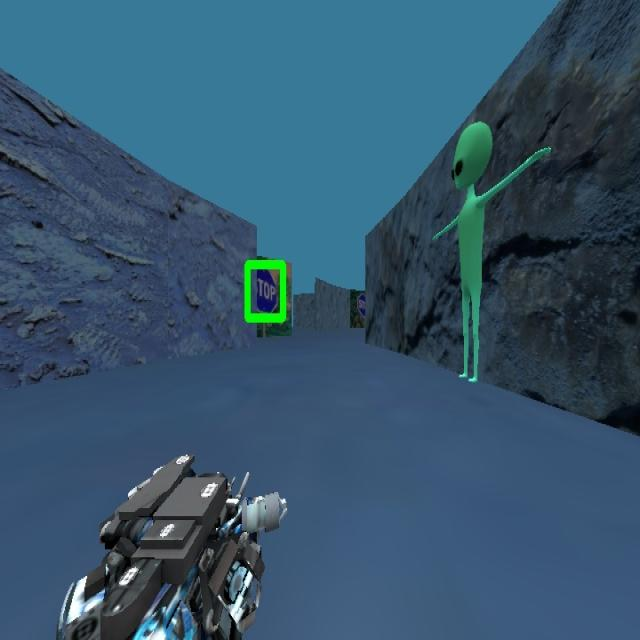Alien: (430, 119, 551, 382)
Stop_Sign: (243, 257, 287, 324)
